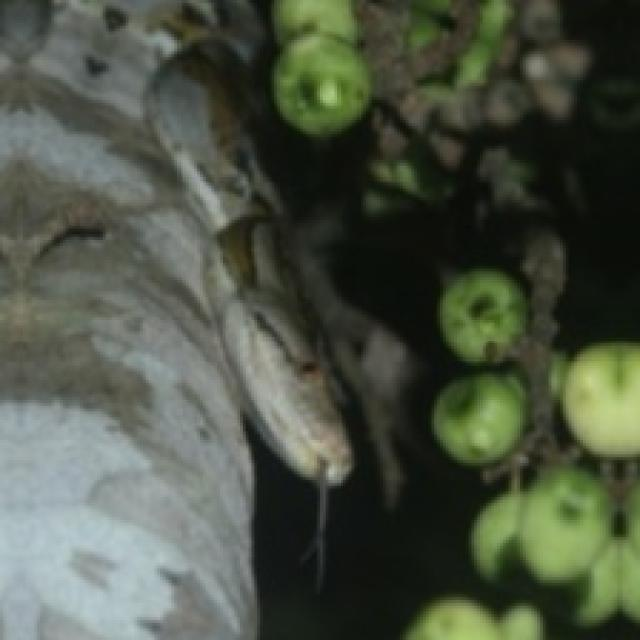reticulated python: (146, 32, 352, 484)
